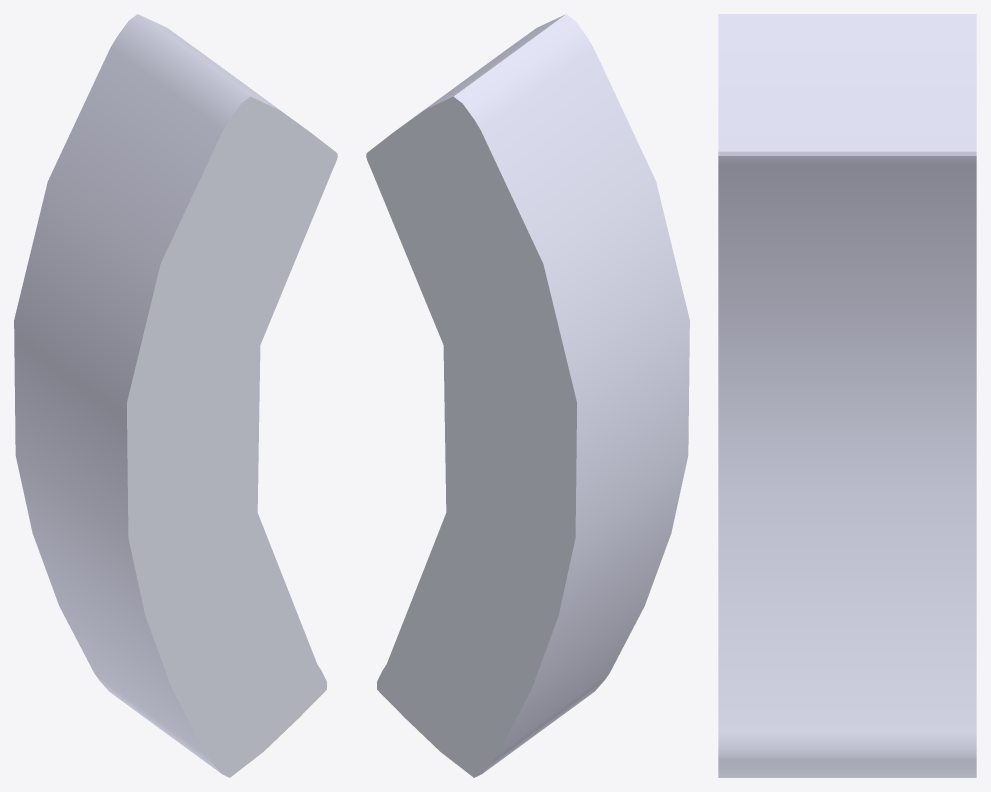
3 renders of one model, left to right at view 1: azimuth 30°, elevation 25°; view 2: azimuth 150°, elevation 25°; view 3: azimuth 270°, elevation 25°, orthographic. The views are drawn at different scales.
Visible parts, largest first — view 1: symbol(_Zyzol_Grey; view 2: symbol(_Zyzol_Grey; view 3: symbol(_Zyzol_Grey.
Boxes of the visible parts, box(x1,y1,x2,y2) form: symbol(_Zyzol_Grey: box(14, 14, 337, 777); symbol(_Zyzol_Grey: box(366, 14, 689, 777); symbol(_Zyzol_Grey: box(718, 14, 976, 777).
Bounding box in the file's own units: 0.0486 × 0.1489 × 0.045.
Materials: 2 (2 with a texture image).
